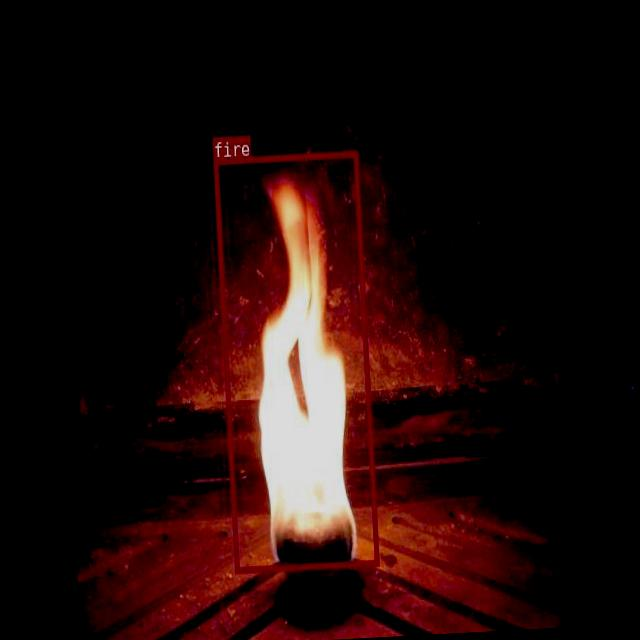fire: (212, 150, 378, 573)
